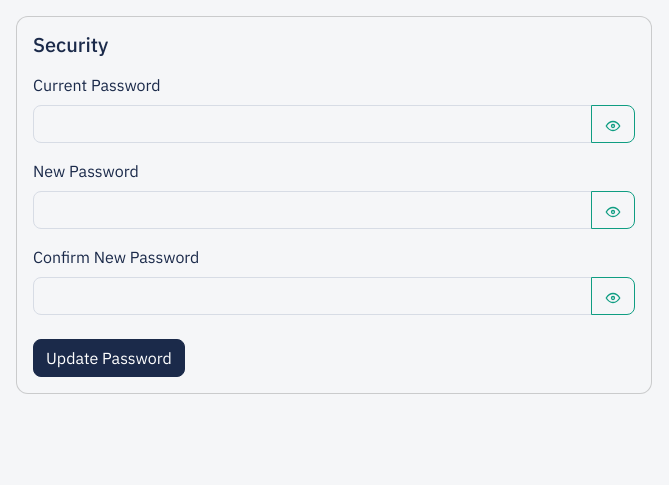
SettingsPage › shows the server-side error message on failure
Type "WrongPass1!" into the password field labelled "Current Password".
click(312, 124); type("WrongPass1!")  # box [33,105,592,143]
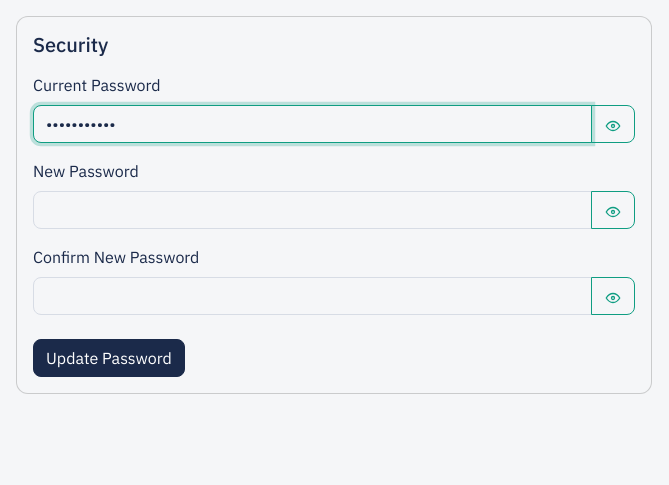
Type "NewPass1!" into the password field labelled "New Password".
click(312, 210); type("NewPass1!")  # box [33,191,592,229]
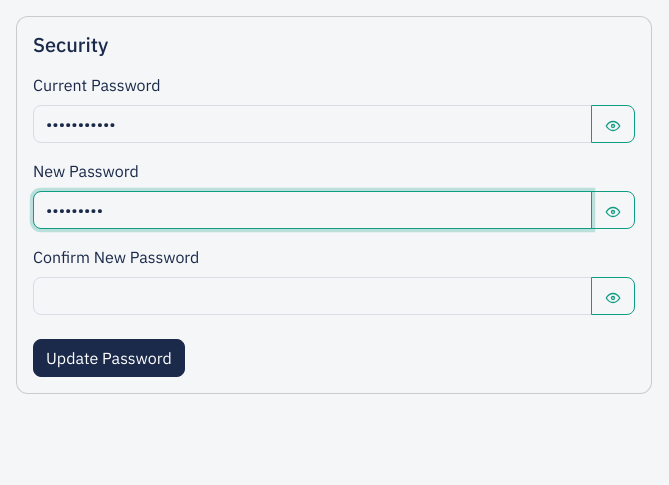
Type "NewPass1!" into the password field labelled "Confirm New Password".
click(312, 296); type("NewPass1!")  # box [33,277,592,315]
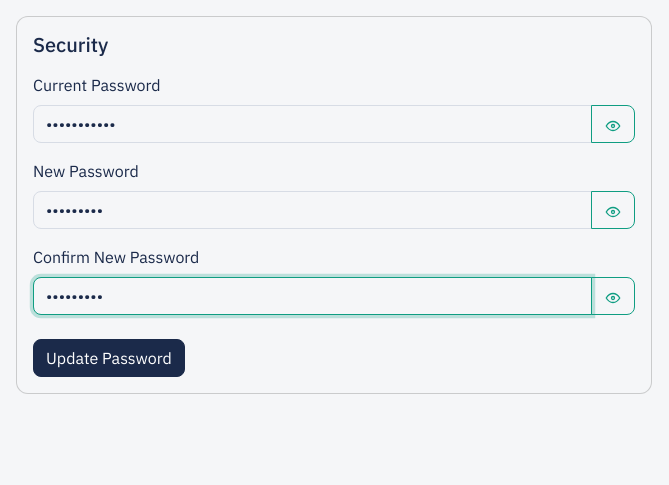
Click the button "Update Password".
click(109, 358)  # box [33,339,185,377]
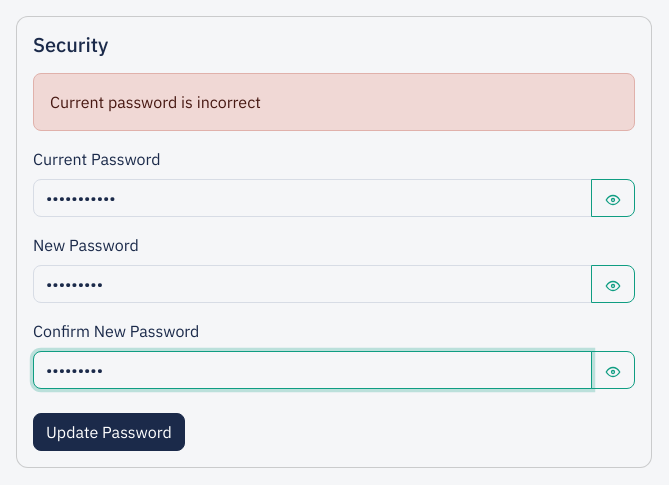
Result: the message with test id "settings-error-alert" reads "Current password is incorrect" at [50,92,261,112]
